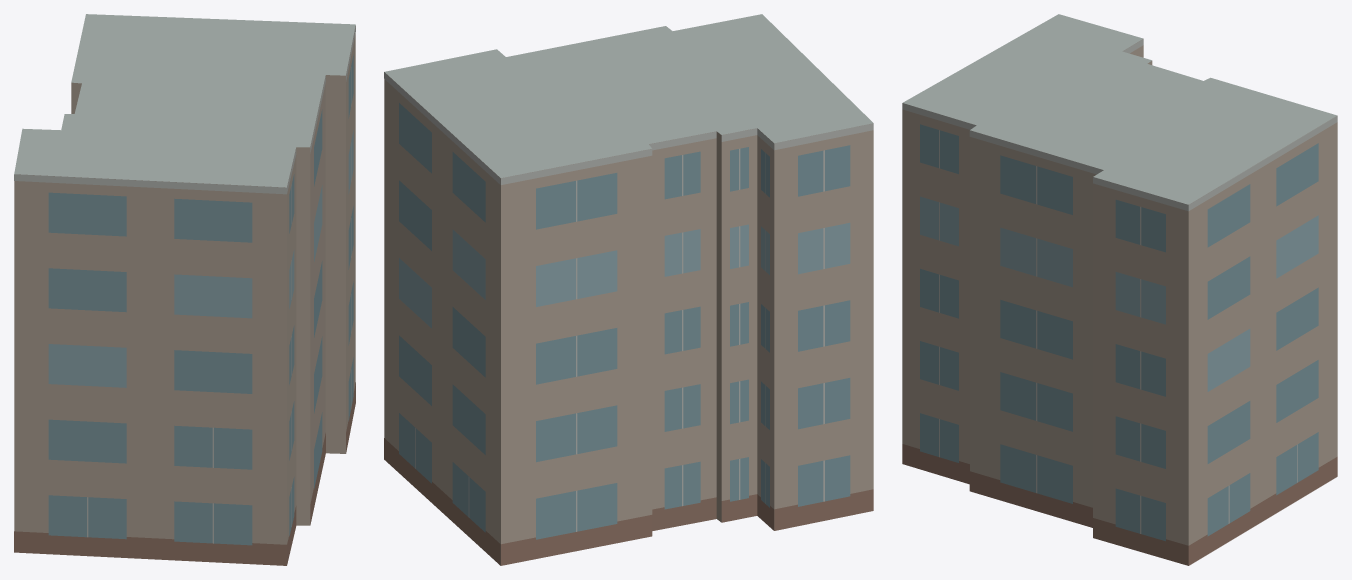
The model's file is survey-upis-32774946.glb.
3 views of the same model, side by side, from view 1: azimuth 30°, elevation 25°; view 2: azimuth 150°, elevation 25°; view 3: azimuth 270°, elevation 25° (orthographic). The views are drawn at different scales.
Visible parts, largest first — view 1: survey-upis-32774946.tmp; view 2: survey-upis-32774946.tmp; view 3: survey-upis-32774946.tmp.
Boxes of the visible parts, box(x1,y1,x2,y2) form: survey-upis-32774946.tmp: box(14, 14, 355, 565); survey-upis-32774946.tmp: box(384, 14, 873, 565); survey-upis-32774946.tmp: box(902, 14, 1337, 565).
Size of the model in its own units: 15.35 by 13.54 by 14.8.
